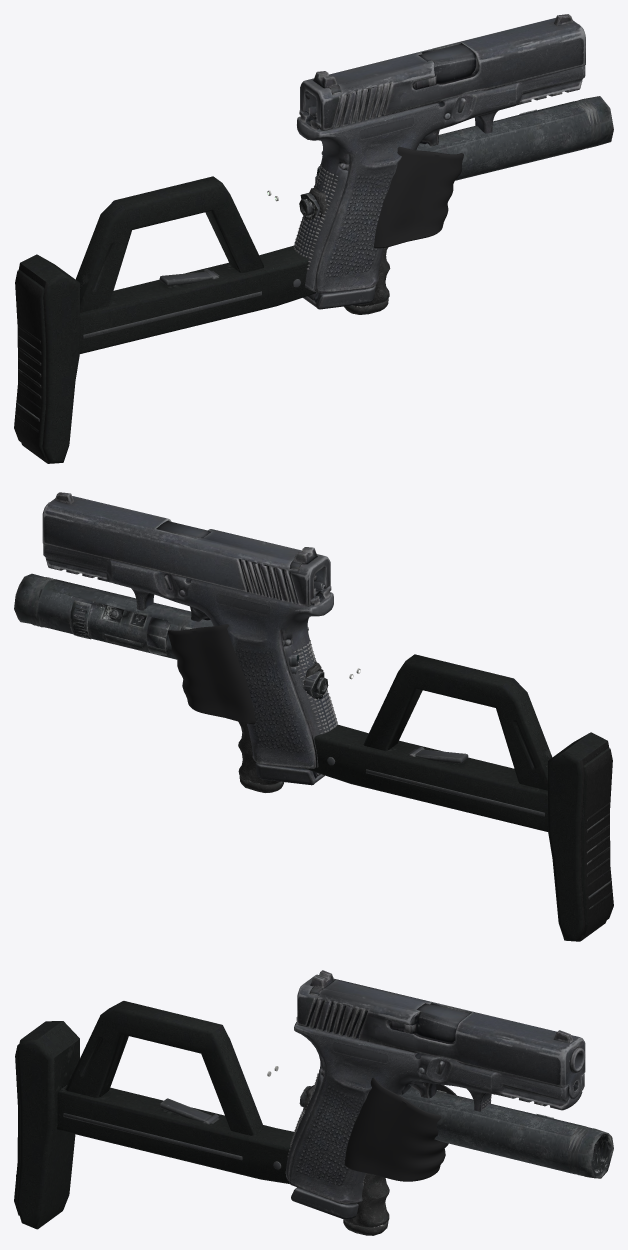
The model's file is pustelga.glb.
The picture shows the model from 3 angles, top to bottom: view 1: azimuth 30°, elevation 25°; view 2: azimuth 150°, elevation 25°; view 3: azimuth 330°, elevation 25°; orthographic projection.
Parts seen in each view (by area): view 1: Pustelga_body, stock_pistol_upor, muzzle_pb9, stock_pistol_hvat, mag_factory, rail_kulak; view 2: Pustelga_body, stock_pistol_upor, muzzle_pb9, stock_pistol_hvat, rail_kulak, mag_factory; view 3: Pustelga_body, stock_pistol_upor, muzzle_pb9, stock_pistol_hvat, rail_kulak, mag_factory.
Part boxes in pixels (x1=…): Pustelga_body: x1=293, y1=14, x2=585, y2=297; stock_pistol_upor: x1=14, y1=176, x2=316, y2=463; muzzle_pb9: x1=416, y1=96, x2=613, y2=180; stock_pistol_hvat: x1=374, y1=146, x2=463, y2=248; mag_factory: x1=303, y1=285, x2=375, y2=309; rail_kulak: x1=344, y1=247, x2=390, y2=314; Pustelga_body: x1=42, y1=492, x2=337, y2=773; stock_pistol_upor: x1=305, y1=654, x2=613, y2=941; muzzle_pb9: x1=14, y1=573, x2=213, y2=659; stock_pistol_hvat: x1=168, y1=624, x2=255, y2=723; rail_kulak: x1=238, y1=721, x2=284, y2=792; mag_factory: x1=255, y1=762, x2=324, y2=785; Pustelga_body: x1=285, y1=970, x2=585, y2=1204; stock_pistol_upor: x1=14, y1=1001, x2=294, y2=1229; muzzle_pb9: x1=398, y1=1086, x2=613, y2=1178; stock_pistol_hvat: x1=344, y1=1077, x2=456, y2=1181; rail_kulak: x1=343, y1=1173, x2=389, y2=1235; mag_factory: x1=291, y1=1187, x2=358, y2=1219.
Bounding box in the file's own units: 0.3801 × 0.1976 × 0.037.
Materials: 14 (10 with a texture image).
